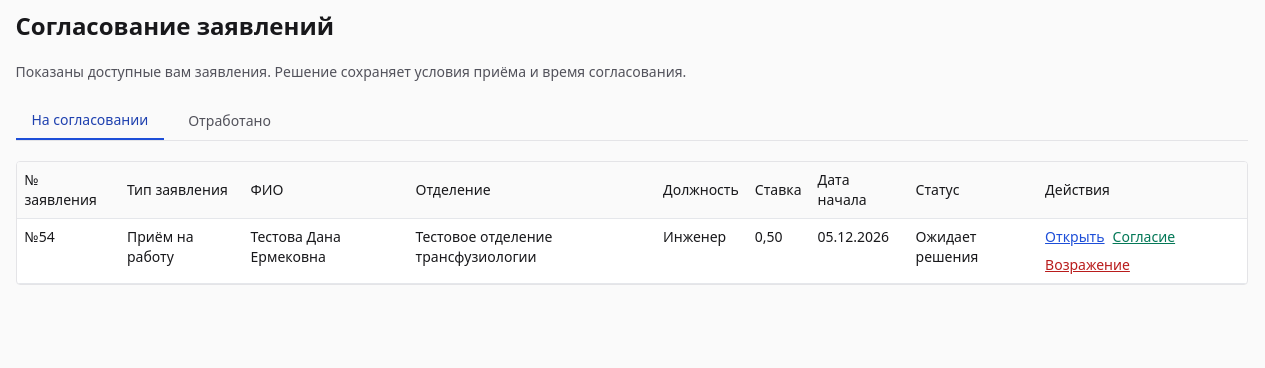
Test case: HireApprovalsClient › leaves the decision form available when the server rejects the save
This screenshot has width=1265, height=368.
Click the button "Согласие" at [1144, 237], box [1113,227,1175,247]
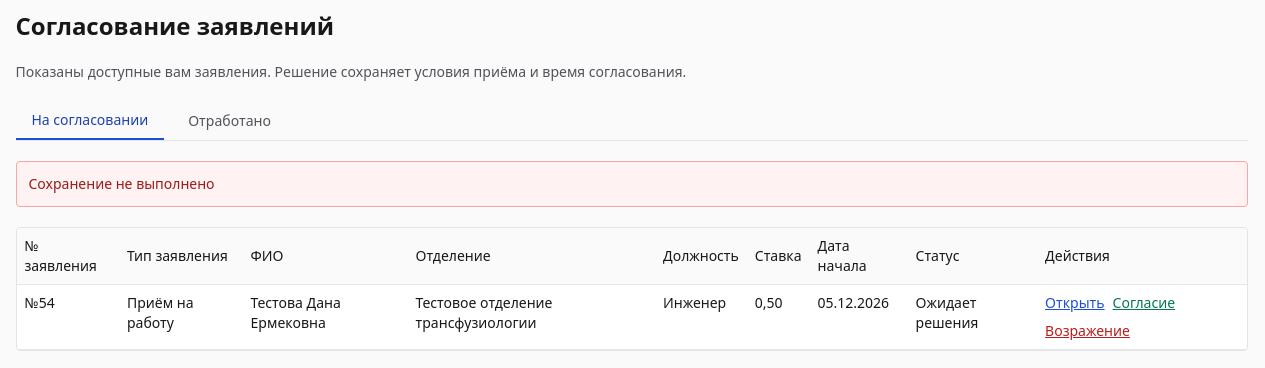
Expected: the button "Согласие" is enabled, [1113,293,1175,313]
Result: the message reads "Сохранение не выполнено" at [28,174,215,193]
